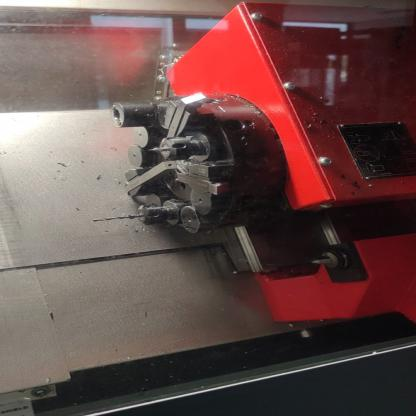bit: (120, 160, 176, 197), (162, 92, 206, 137), (178, 161, 236, 195)
